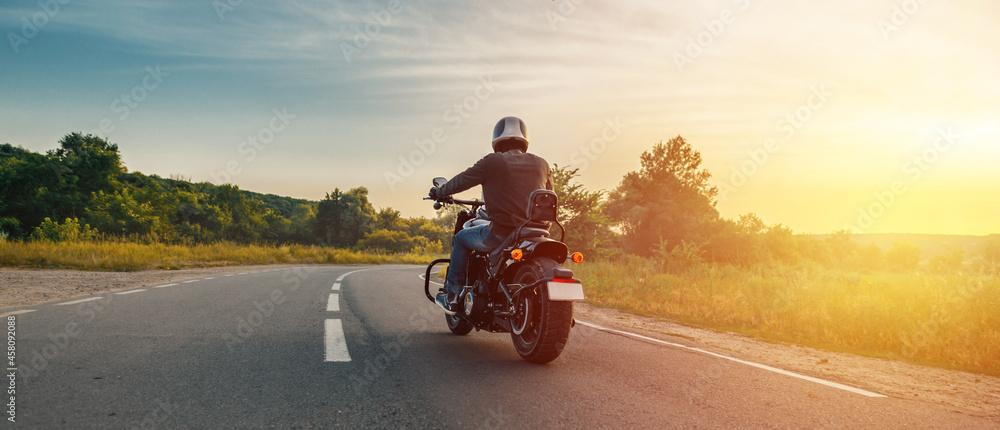helmet: (491, 115, 530, 153)
